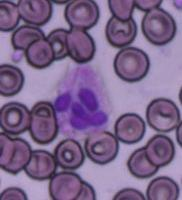N: (50, 63, 114, 138)
